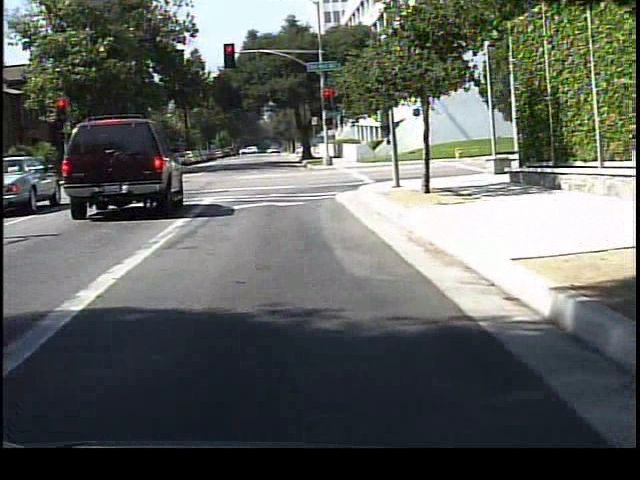person: (382, 131, 402, 167)
